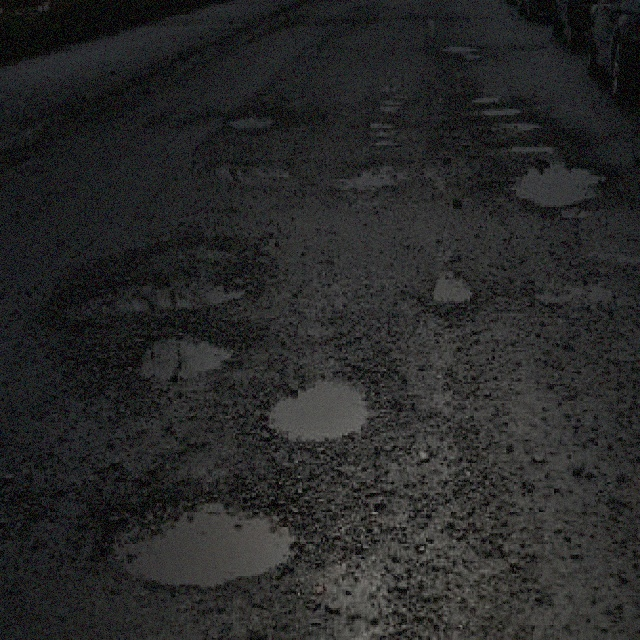pothole: (95, 484, 302, 587), (52, 239, 264, 318), (256, 365, 373, 446), (114, 320, 238, 384), (508, 156, 610, 207), (426, 269, 476, 305), (222, 111, 275, 130), (439, 38, 482, 60), (478, 100, 524, 115), (493, 117, 541, 128)
